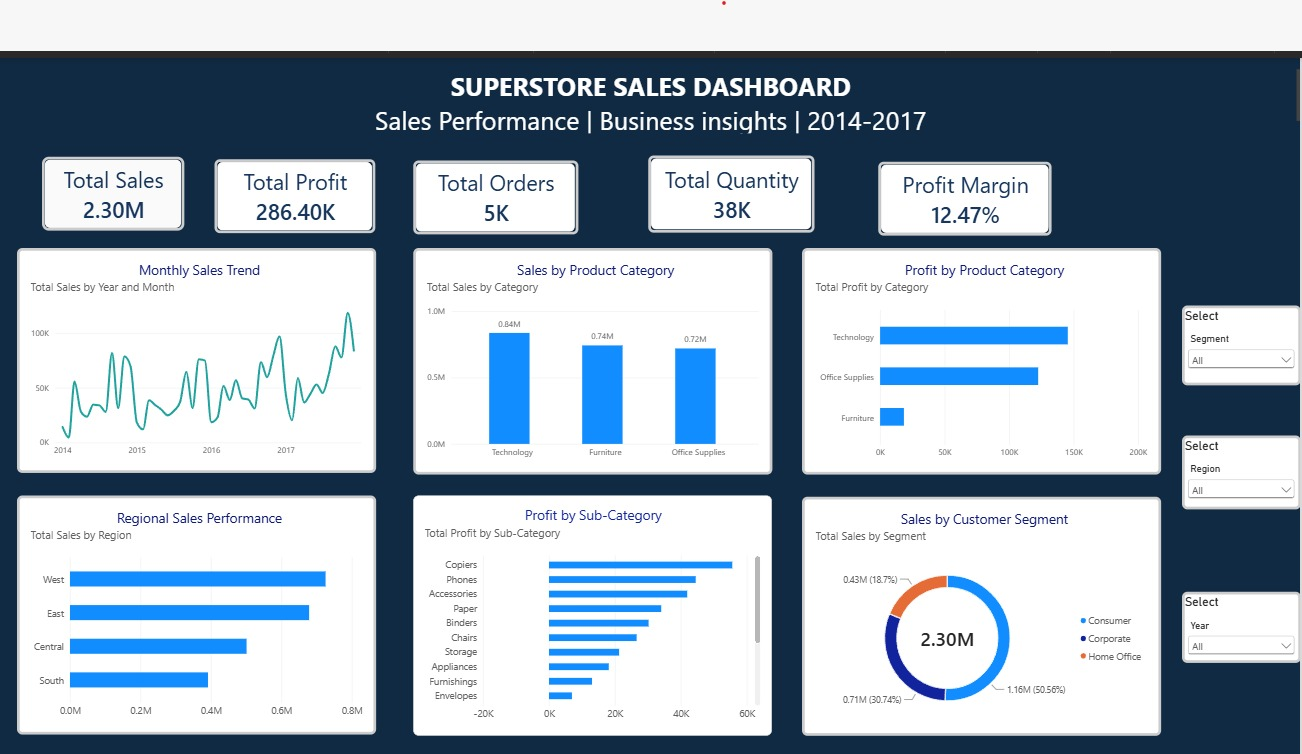

This screenshot's page, from the dashboard's own definition file:
{"tool":"powerbi","page":{"name":"Page 1","canvas":[1920,1080],"ordinal":0},"visuals":[{"type":"cardVisual","fields":{"Data":["Sample - Superstore.Total Sales"]},"box":[65.9,146.1,209.9,109.1],"z":0},{"type":"textbox","box":[10,200.5,183,150],"z":1},{"type":"textbox","box":[10.3,16.5,1910.1,94.7],"z":2},{"type":"cardVisual","fields":{"Data":["Sample - Superstore.Total Profit"]},"box":[321.1,148.2,236.7,109.1],"z":3},{"type":"cardVisual","fields":{"Data":["Sample - Superstore.Total Orders"]},"box":[613.4,150.3,242.9,109.1],"z":4},{"type":"cardVisual","fields":{"Data":["Sample - Superstore.Total Quantity"]},"box":[959.2,144.1,244.9,113.2],"z":5},{"type":"cardVisual","fields":{"Data":["Sample - Superstore.Profit Margin"]},"box":[1296.7,152.3,255.2,109.1],"z":6},{"type":"lineChart","title":"Monthly Sales Trend","fields":{"Category":["Sample - Superstore.Order Date.Variation.Date Hierarchy.Year","Sample - Superstore.Order Date.Variation.Date Hierarchy.Month"],"Y":["Sample - Superstore.Total Sales"]},"box":[28.8,279.9,529,331.4],"z":7},{"type":"clusteredColumnChart","title":"Sales by Product Category","fields":{"Category":["Sample - Superstore.Category"],"Y":["Sample - Superstore.Total Sales"]},"box":[613.4,279.9,529,333.4],"z":8},{"type":"clusteredBarChart","title":"Profit by Product Category","fields":{"Category":["Sample - Superstore.Category"],"Y":["Sample - Superstore.Total Profit"]},"box":[1185.6,279.9,529,333.4],"z":9},{"type":"clusteredBarChart","title":"Regional Sales Performance","fields":{"Category":["Sample - Superstore.Region"],"Y":["Sample - Superstore.Total Sales"]},"box":[28.8,644.3,529,352],"z":10},{"type":"donutChart","title":"Sales by Customer Segment","fields":{"Category":["Sample - Superstore.Segment"],"Y":["Sample - Superstore.Total Sales"]},"box":[1185.3,646,529,352],"z":12},{"type":"slicer","title":"Select","fields":{"Values":["Sample - Superstore.Year"]},"box":[1745.5,786.3,175,105],"z":13},{"type":"slicer","title":"Select ","fields":{"Values":["Sample - Superstore.Region"]},"box":[1745.5,555.7,175,109.1],"z":14},{"type":"slicer","title":"Select","fields":{"Values":["Sample - Superstore.Segment"]},"box":[1745.5,364.3,175,117.3],"z":15},{"type":"clusteredBarChart","title":"Profit by Sub-Category","fields":{"Category":["Sample - Superstore.Sub-Category"],"Y":["Sample - Superstore.Total Profit"]},"box":[612.9,644.2,528.2,353.4],"z":16}]}

Visuals, with their boxes in screenshot pixels (x1, y1, x2, y2), scaled from the page's 1920x1080 canvas onto the 1302x754 screenshot:
cardVisual - Sample - Superstore.Total Sales: {"left": 45, "top": 102, "right": 187, "bottom": 178}
textbox: {"left": 7, "top": 140, "right": 131, "bottom": 245}
textbox: {"left": 7, "top": 12, "right": 1301, "bottom": 78}
cardVisual - Sample - Superstore.Total Profit: {"left": 218, "top": 103, "right": 378, "bottom": 180}
cardVisual - Sample - Superstore.Total Orders: {"left": 416, "top": 105, "right": 581, "bottom": 181}
cardVisual - Sample - Superstore.Total Quantity: {"left": 650, "top": 101, "right": 817, "bottom": 180}
cardVisual - Sample - Superstore.Profit Margin: {"left": 879, "top": 106, "right": 1052, "bottom": 182}
"Monthly Sales Trend" lineChart: {"left": 20, "top": 195, "right": 378, "bottom": 427}
"Sales by Product Category" clusteredColumnChart: {"left": 416, "top": 195, "right": 775, "bottom": 428}
"Profit by Product Category" clusteredBarChart: {"left": 804, "top": 195, "right": 1163, "bottom": 428}
"Regional Sales Performance" clusteredBarChart: {"left": 20, "top": 450, "right": 378, "bottom": 696}
"Sales by Customer Segment" donutChart: {"left": 804, "top": 451, "right": 1163, "bottom": 697}
"Select" slicer: {"left": 1184, "top": 549, "right": 1301, "bottom": 622}
"Select " slicer: {"left": 1184, "top": 388, "right": 1301, "bottom": 464}
"Select" slicer: {"left": 1184, "top": 254, "right": 1301, "bottom": 336}
"Profit by Sub-Category" clusteredBarChart: {"left": 416, "top": 450, "right": 774, "bottom": 696}
